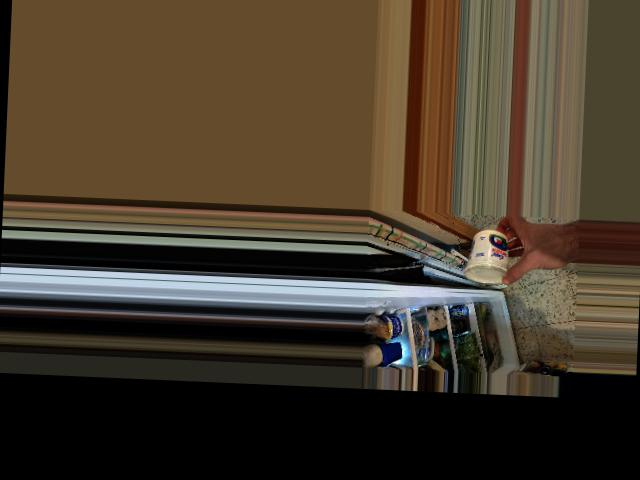cotage: (464, 228, 511, 283)
